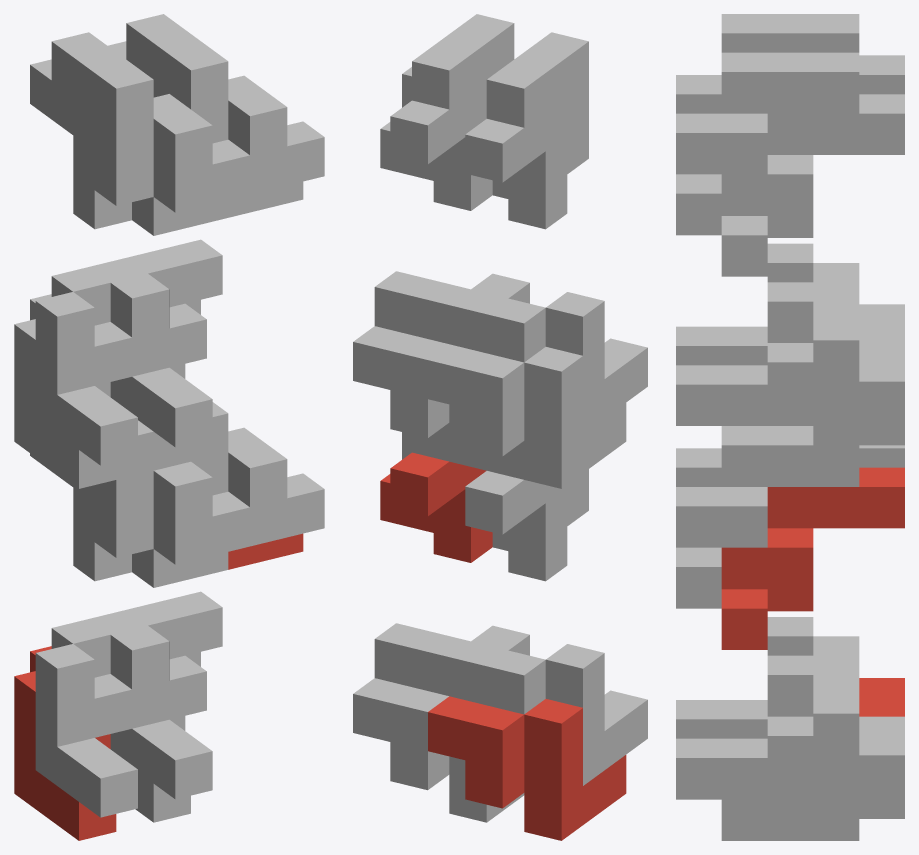
Rendered from tiling.obj.
3 views of the same model, side by side, from view 1: azimuth 30°, elevation 25°; view 2: azimuth 150°, elevation 25°; view 3: azimuth 270°, elevation 25° (orthographic). The views are drawn at different scales.
Parts seen in each view (by area): view 1: copy_2_domain_4, copy_1_domain_6, copy_1_domain_8, copy_1_domain_4, copy_1_domain_2, copy_2_domain_8, copy_2_domain_2, copy_2_domain_6, copy_2_domain_3, copy_1_domain_1, copy_1_domain_3, copy_2_domain_1 (+4 smaller); view 2: copy_1_domain_1, copy_1_domain_3, copy_1_domain_2, copy_1_domain_4, copy_2_domain_3, copy_2_domain_7, copy_1_domain_5, copy_2_domain_1, copy_2_domain_4, copy_1_domain_7, copy_2_domain_5, copy_2_domain_8 (+4 smaller); view 3: copy_1_domain_6, copy_2_domain_8, copy_1_domain_8, copy_2_domain_6, copy_2_domain_5, copy_2_domain_7, copy_1_domain_5, copy_1_domain_4, copy_1_domain_2, copy_2_domain_4, copy_1_domain_7, copy_2_domain_3 (+4 smaller).
Boxes of the visible parts, <box> form: copy_2_domain_4: <box>51,32,249,212</box>; copy_1_domain_6: <box>110,591,222,799</box>; copy_1_domain_8: <box>110,239,222,447</box>; copy_1_domain_4: <box>35,258,147,465</box>; copy_1_domain_2: <box>35,610,147,817</box>; copy_2_domain_8: <box>126,14,324,194</box>; copy_2_domain_2: <box>94,420,249,564</box>; copy_2_domain_6: <box>191,402,324,546</box>; copy_2_domain_3: <box>30,59,228,235</box>; copy_1_domain_1: <box>14,646,116,840</box>; copy_1_domain_3: <box>14,294,116,488</box>; copy_2_domain_1: <box>30,453,228,587</box>; copy_1_domain_1: <box>428,696,626,840</box>; copy_1_domain_3: <box>428,344,626,488</box>; copy_1_domain_2: <box>449,641,647,785</box>; copy_1_domain_4: <box>449,289,647,433</box>; copy_2_domain_3: <box>465,96,567,229</box>; copy_2_domain_7: <box>380,82,492,210</box>; copy_1_domain_5: <box>353,678,524,822</box>; copy_2_domain_1: <box>465,471,567,581</box>; copy_2_domain_4: <box>486,32,588,173</box>; copy_1_domain_7: <box>353,326,486,470</box>; copy_2_domain_5: <box>380,452,492,562</box>; copy_2_domain_8: <box>402,14,514,109</box>; copy_1_domain_6: <box>676,655,859,799</box>; copy_2_domain_8: <box>676,52,859,235</box>; copy_1_domain_8: <box>676,282,859,425</box>; copy_2_domain_6: <box>676,426,859,608</box>; copy_2_domain_5: <box>721,467,904,649</box>; copy_2_domain_7: <box>721,94,904,276</box>; copy_1_domain_5: <box>721,716,904,840</box>; copy_1_domain_4: <box>676,243,859,365</box>; copy_1_domain_2: <box>676,617,859,738</box>; copy_2_domain_4: <box>676,14,859,113</box>; copy_1_domain_7: <box>813,343,904,445</box>; copy_2_domain_3: <box>859,55,904,94</box>.
Size of the model in its own units: 6 by 19 by 5.
